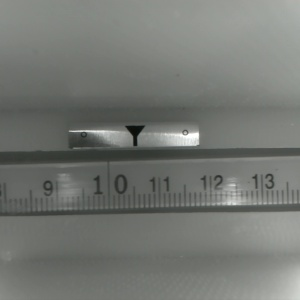0: (113, 174, 128, 194)
1: (94, 174, 103, 195), (199, 175, 206, 190), (250, 174, 257, 189), (163, 176, 169, 192), (149, 177, 155, 192)
2: (213, 175, 223, 189)
3: (263, 173, 274, 189)
9: (42, 179, 52, 196)
finger: (122, 125, 145, 147)
